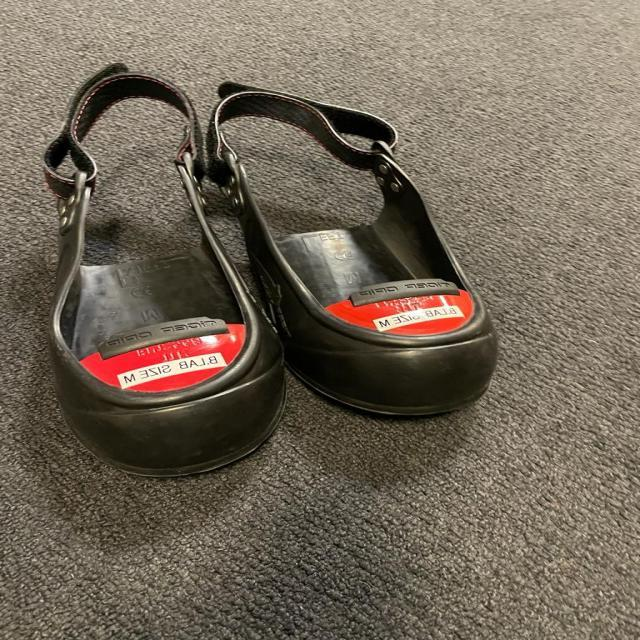shoes: (198, 73, 502, 434), (38, 63, 294, 482)
